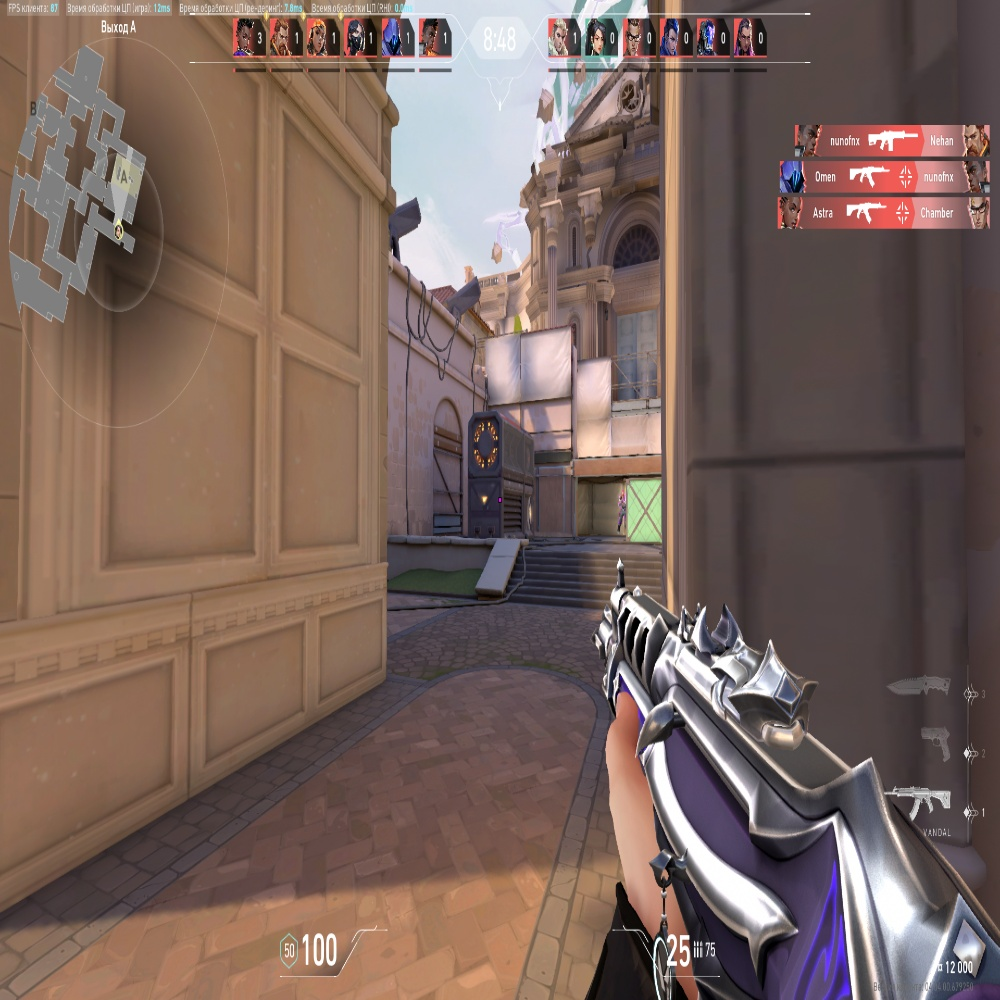body: (619, 498, 626, 512)
head: (621, 490, 624, 497)
